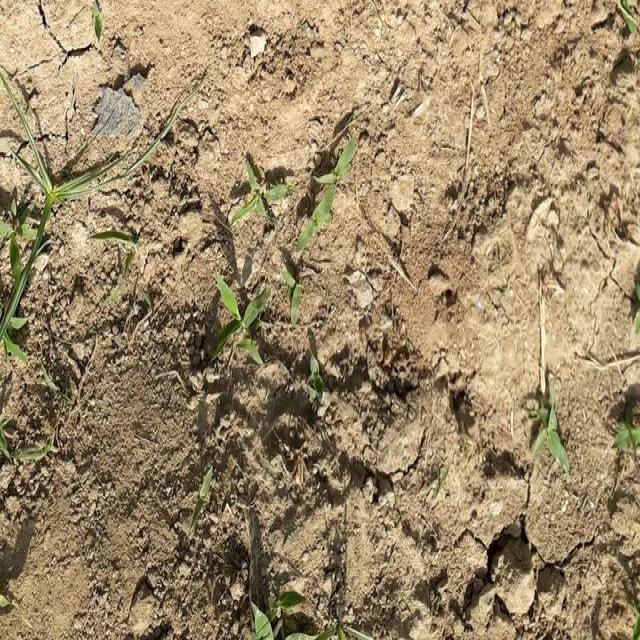weed: (202, 127, 369, 350), (0, 73, 118, 324), (0, 413, 59, 468), (526, 406, 571, 477), (248, 599, 286, 640), (614, 416, 640, 455), (306, 350, 326, 392), (199, 469, 216, 509)
